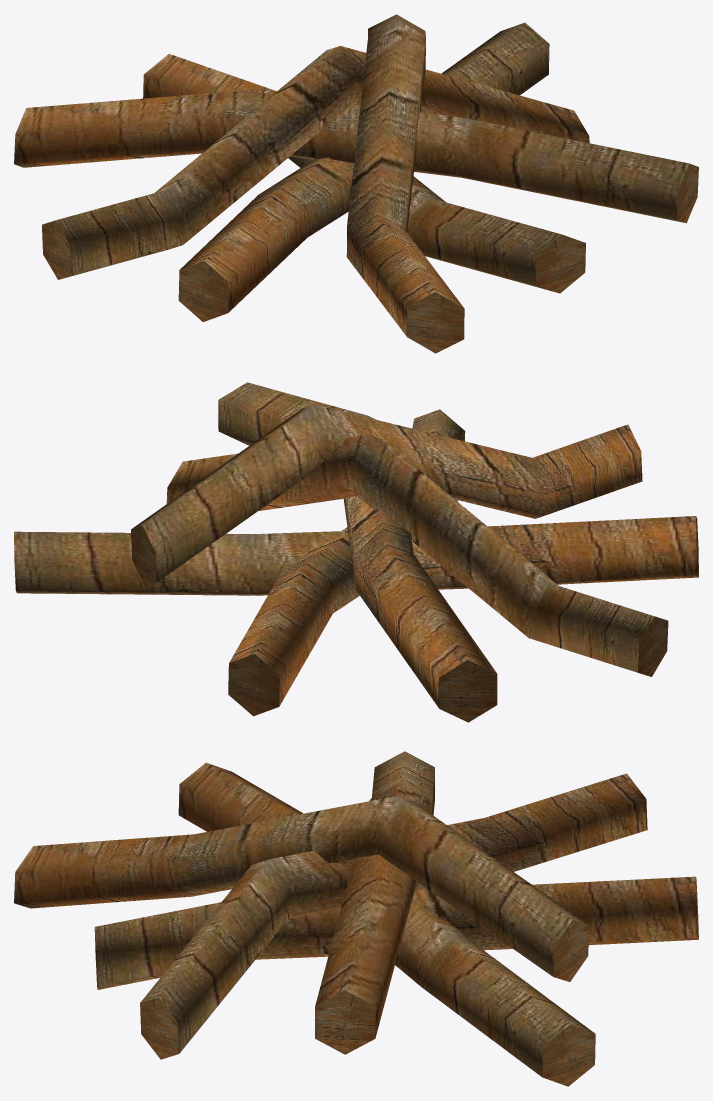
The model's file is Feu de camps bois.FBX.
3 renders of one model, top to bottom at view 1: azimuth 30°, elevation 25°; view 2: azimuth 150°, elevation 25°; view 3: azimuth 270°, elevation 25°, orthographic. The views are drawn at different scales.
Visible parts, largest first — view 1: Feu; view 2: Feu; view 3: Feu.
Boxes of the visible parts, left/top/right/bottom form: Feu: left=14, top=14, right=698, bottom=353; Feu: left=14, top=382, right=698, bottom=722; Feu: left=14, top=751, right=698, bottom=1086.
Bounding box in the file's own units: 128 × 39.67 × 129.
Materials: 1 (1 with a texture image).
